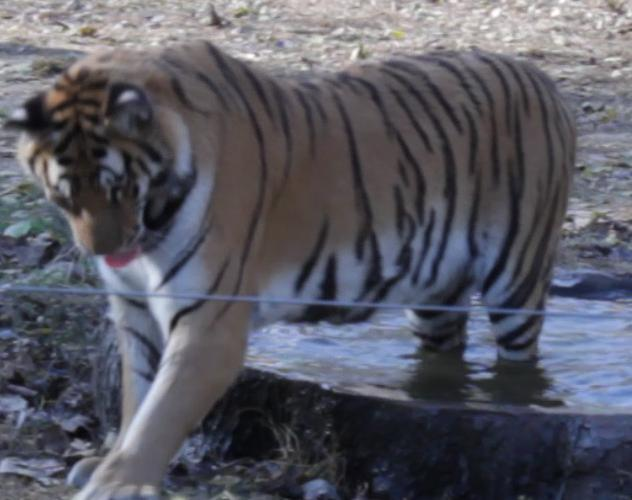tiger: (8, 41, 575, 499)
